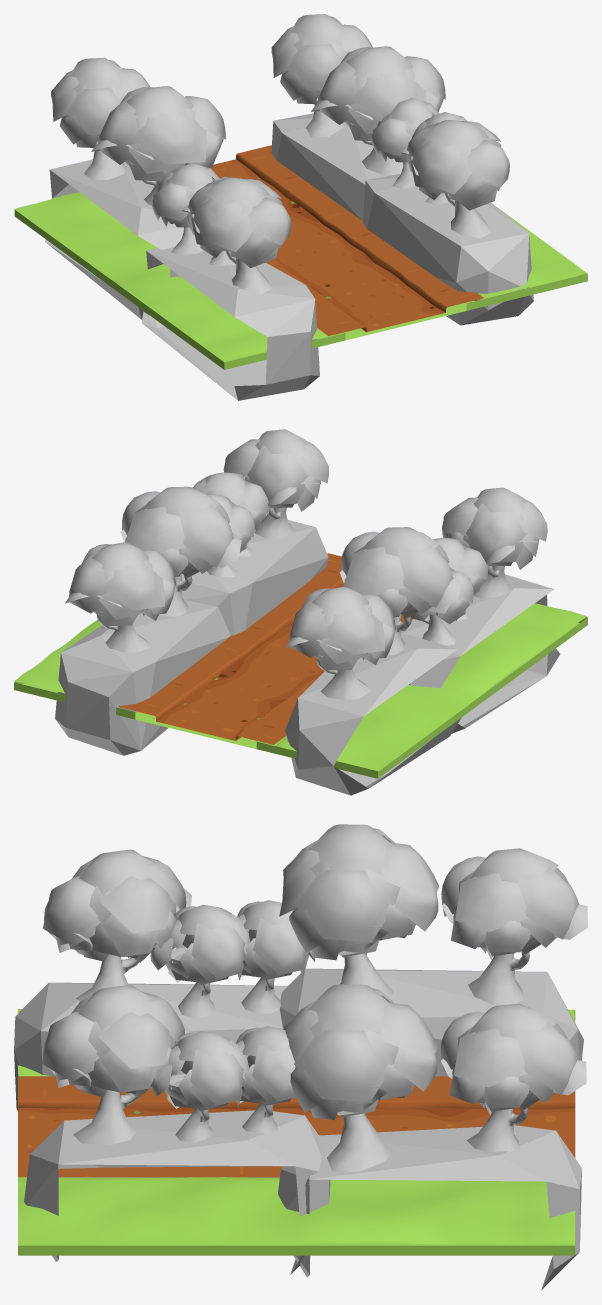
The model's file is Forest7.fbx.
3 renders of one model, top to bottom at view 1: azimuth 30°, elevation 25°; view 2: azimuth 150°, elevation 25°; view 3: azimuth 270°, elevation 25°, orthographic. The views are drawn at different scales.
Parts seen in each view (by area): view 1: Rock8.005, Rock8.004, road_I_2.090, Plane.029, BOSQUELOWPOLY.077, BOSQUELOWPOLY.072, BOSQUELOWPOLY.070, BOSQUELOWPOLY.075, Rock8.006, BOSQUELOWPOLY.074, BOSQUELOWPOLY.079, Rock8.003 (+8 smaller); view 2: Rock8.006, road_I_2.090, Rock8.003, BOSQUELOWPOLY.077, BOSQUELOWPOLY.072, Plane.029, Rock8.005, BOSQUELOWPOLY.079, BOSQUELOWPOLY.074, BOSQUELOWPOLY.075, BOSQUELOWPOLY.070, Rock8.004 (+9 smaller); view 3: road_I_2.089, BOSQUELOWPOLY.072, BOSQUELOWPOLY.077, Rock8.005, BOSQUELOWPOLY.079, BOSQUELOWPOLY.070, BOSQUELOWPOLY.074, Rock8.006, BOSQUELOWPOLY.075, Rock8.003, Rock8.004, Plane.029 (+8 smaller).
Boxes of the visible parts, x1,y1,x2,y2 form: Rock8.005: (363, 173, 533, 325); Rock8.004: (141, 247, 319, 400); road_I_2.090: (14, 192, 327, 361); Plane.029: (211, 159, 445, 331); BOSQUELOWPOLY.077: (91, 86, 225, 205); BOSQUELOWPOLY.072: (311, 46, 445, 174); BOSQUELOWPOLY.070: (401, 120, 509, 238); BOSQUELOWPOLY.075: (182, 177, 291, 294); Rock8.006: (271, 113, 392, 220); BOSQUELOWPOLY.074: (271, 14, 372, 137); BOSQUELOWPOLY.079: (51, 57, 149, 179); Rock8.003: (45, 159, 183, 319); Rock8.006: (55, 600, 230, 755); road_I_2.090: (276, 603, 587, 771); Rock8.003: (285, 632, 461, 795); BOSQUELOWPOLY.077: (339, 527, 460, 655); BOSQUELOWPOLY.072: (120, 486, 241, 616); Plane.029: (156, 585, 402, 740); Rock8.005: (181, 514, 328, 635); BOSQUELOWPOLY.079: (285, 586, 395, 700); BOSQUELOWPOLY.074: (65, 542, 176, 652); BOSQUELOWPOLY.075: (442, 487, 547, 598); BOSQUELOWPOLY.070: (223, 429, 328, 538); Rock8.004: (401, 574, 560, 733); road_I_2.089: (18, 1177, 575, 1245); BOSQUELOWPOLY.072: (283, 984, 437, 1171); BOSQUELOWPOLY.077: (279, 824, 438, 998); Rock8.005: (24, 1110, 330, 1274); BOSQUELOWPOLY.079: (441, 848, 587, 1004); BOSQUELOWPOLY.070: (42, 985, 191, 1144); BOSQUELOWPOLY.074: (440, 1003, 586, 1151); Rock8.006: (278, 1125, 581, 1289); BOSQUELOWPOLY.075: (43, 849, 191, 1001); Rock8.003: (279, 968, 583, 1076); Rock8.004: (14, 982, 287, 1110); Plane.029: (18, 1108, 575, 1153).
Size of the model in its own units: 10052 by 5795 by 10302.
